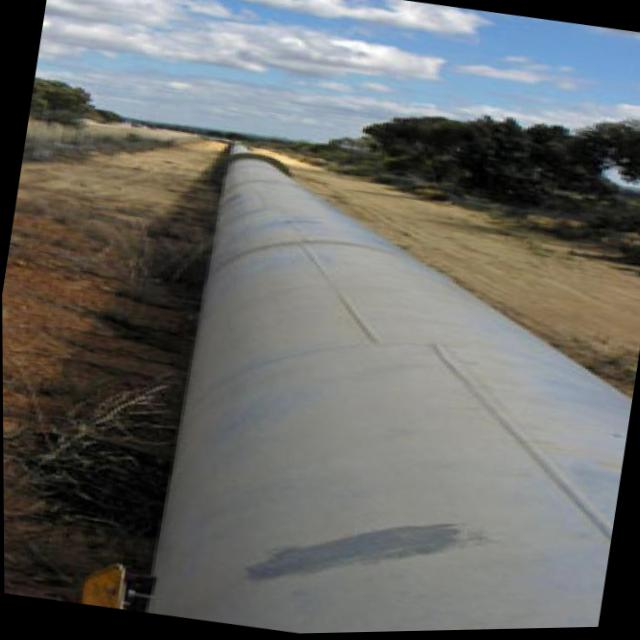leak: (247, 524, 482, 580)
